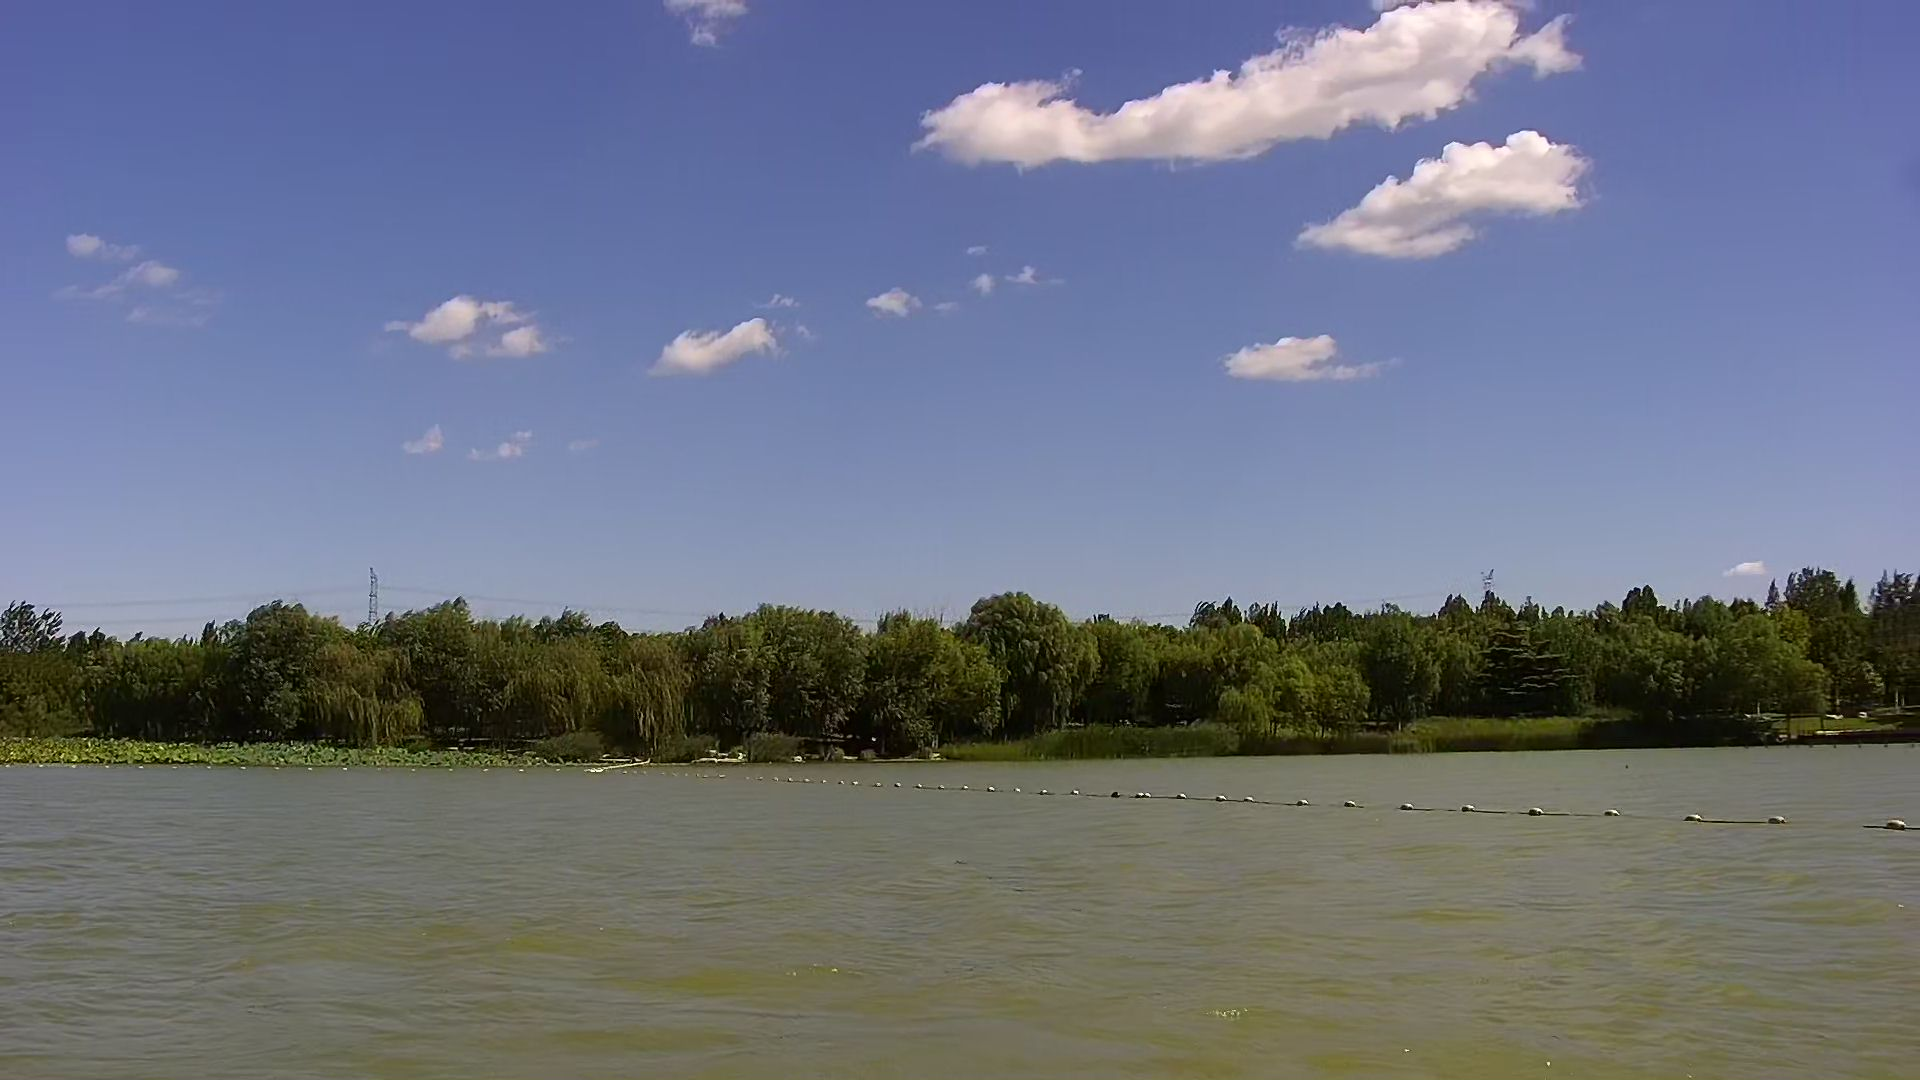ball: (1745, 796, 1800, 835), (1879, 798, 1913, 845), (1679, 793, 1709, 840), (1455, 785, 1484, 833), (1593, 793, 1631, 829), (1396, 789, 1429, 829), (1287, 786, 1320, 820), (1338, 789, 1365, 822), (1527, 786, 1544, 827)
